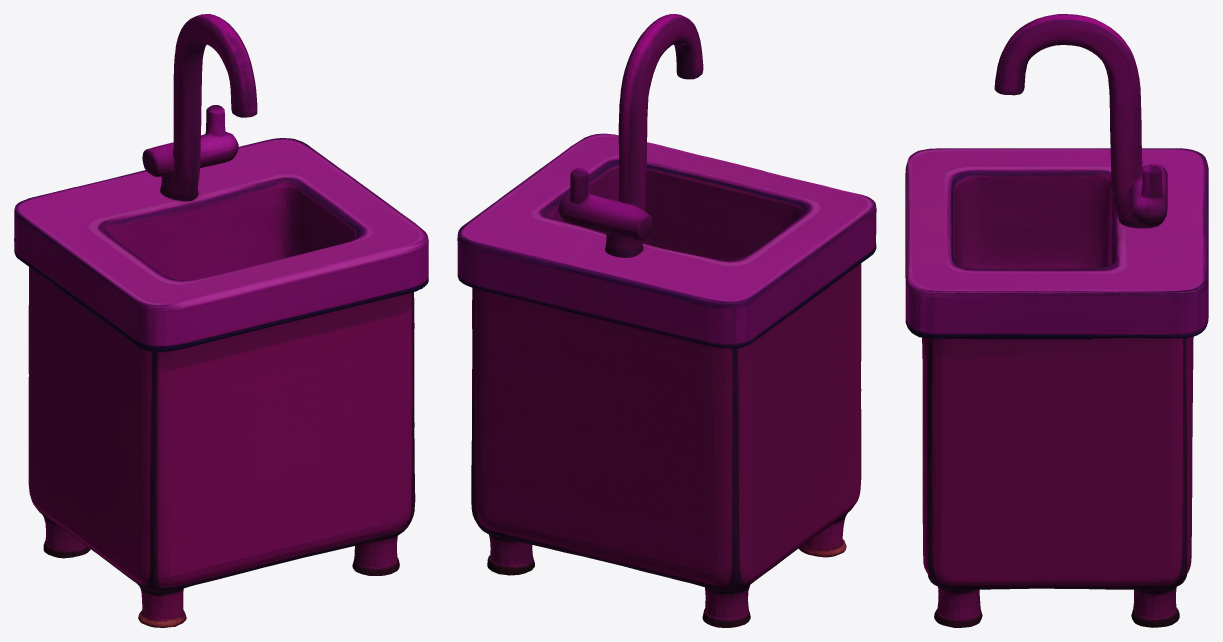
The picture shows the model from 3 angles, left to right: view 1: azimuth 30°, elevation 25°; view 2: azimuth 150°, elevation 25°; view 3: azimuth 270°, elevation 25°; orthographic projection. The views are drawn at different scales.
Visible parts, largest first — view 1: world; view 2: world; view 3: world.
Boxes of the visible parts, x1,y1,x2,y2 form: world: (14,14,428,627); world: (457,14,876,627); world: (905,14,1208,627).
Size of the model in its own units: 0.5664 by 1 by 0.502.
Materials: 1 (1 with a texture image).
